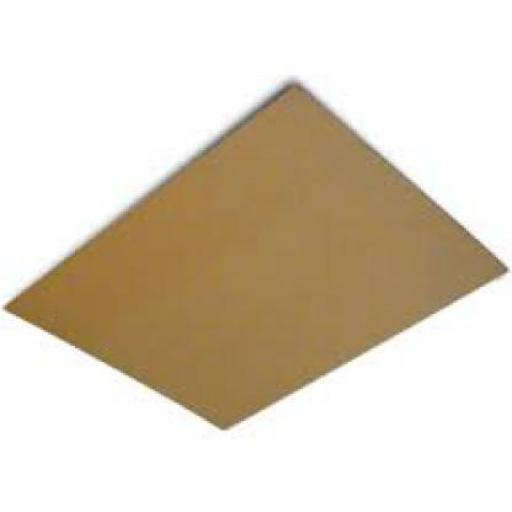cardboard: (8, 89, 510, 432)
